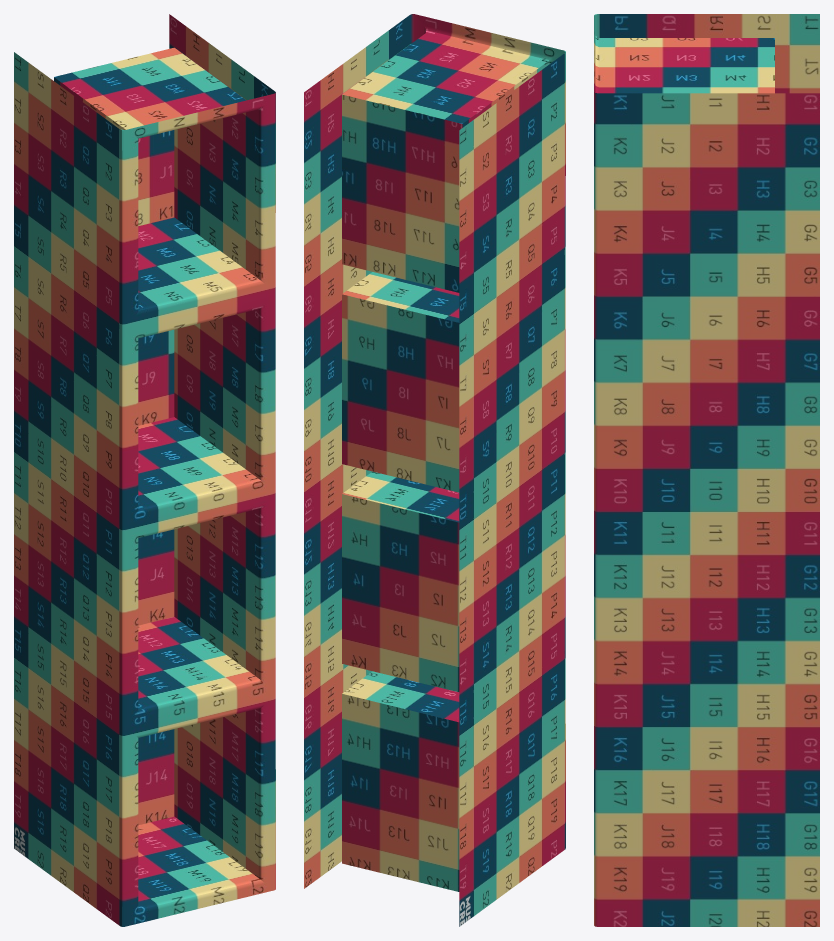
The model's file is shelf_closet.fbx.
3 renders of one model, left to right at view 1: azimuth 30°, elevation 25°; view 2: azimuth 150°, elevation 25°; view 3: azimuth 270°, elevation 25°, orthographic. The views are drawn at different scales.
Visible parts, largest first — view 1: shelf_closet; view 2: shelf_closet; view 3: shelf_closet.
Part boxes in pixels (bbox=[...]): shelf_closet: bbox=[14, 14, 275, 926]; shelf_closet: bbox=[304, 14, 565, 926]; shelf_closet: bbox=[594, 14, 819, 926].
Bounding box in the file's own units: 32.14 × 158 × 38.66.
